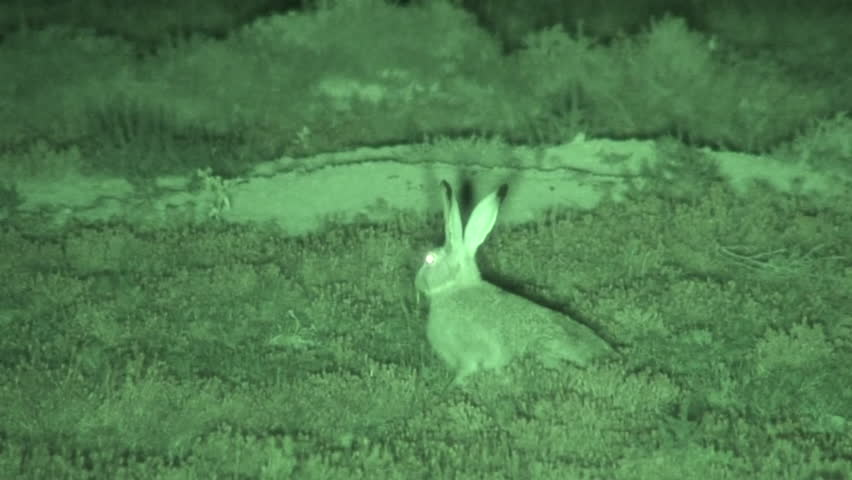rabbit: (393, 123, 639, 439)
